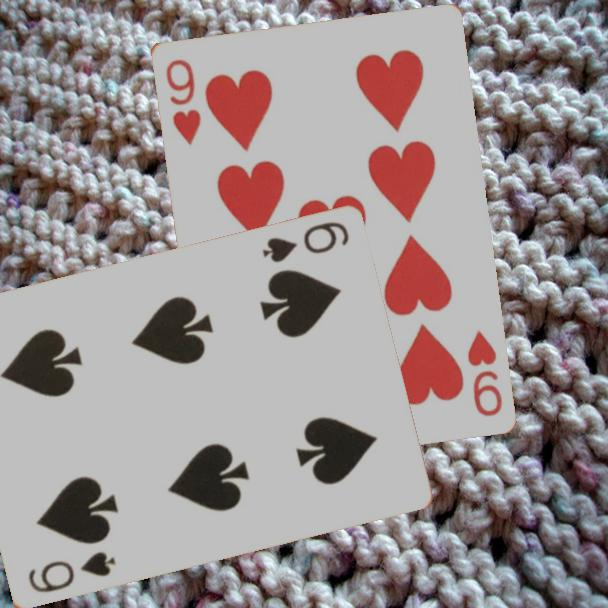h09: (463, 326, 505, 419), (162, 55, 203, 148)
s06: (24, 548, 119, 596), (258, 218, 352, 266)
